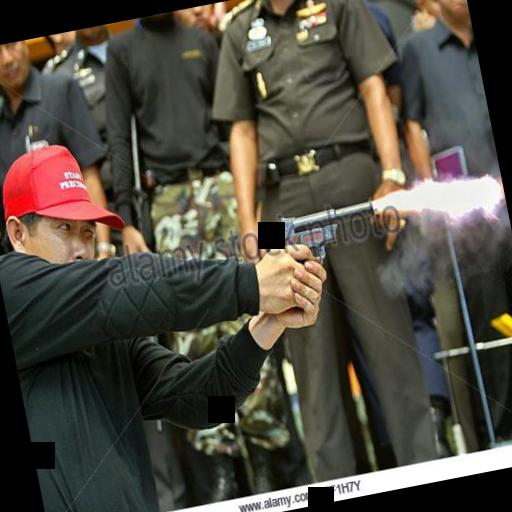Handgun: (259, 190, 399, 320)
